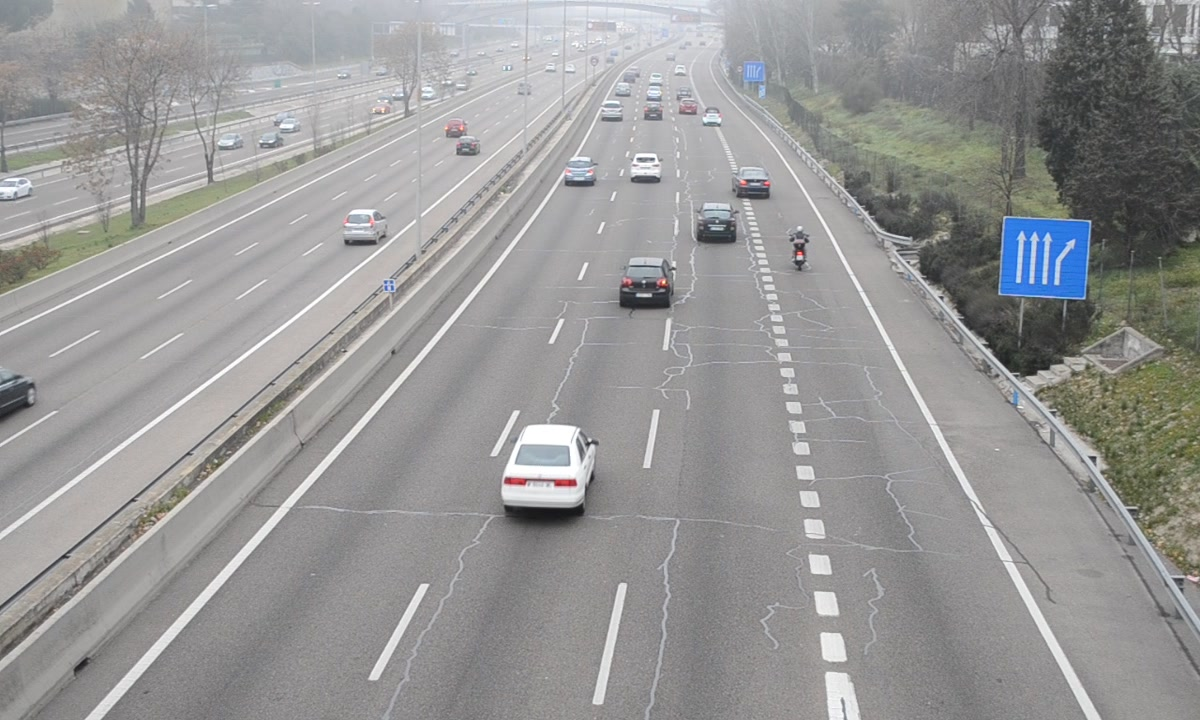car: (500, 425, 597, 511), (620, 259, 674, 307), (695, 204, 738, 245), (734, 167, 772, 201), (562, 157, 597, 185), (631, 153, 664, 180), (598, 98, 622, 123)
motorcycle: (790, 226, 811, 275)
